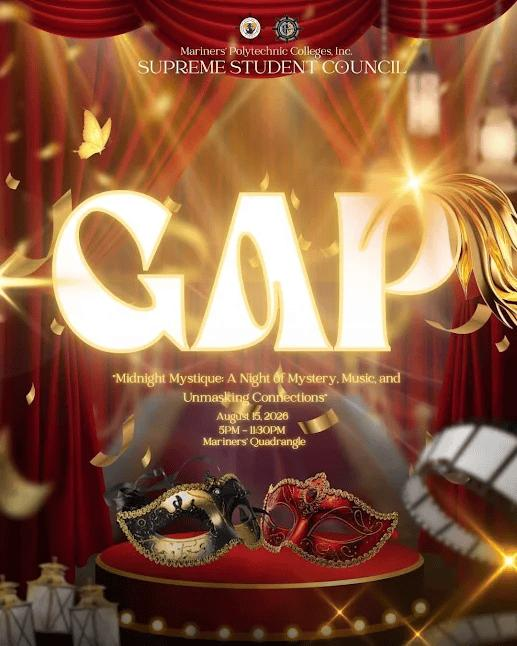embellishment: (99, 461, 418, 576), (359, 134, 517, 335), (401, 415, 516, 566), (0, 552, 129, 646), (422, 300, 517, 362), (408, 602, 516, 646), (87, 412, 158, 476), (75, 106, 116, 162), (298, 407, 343, 439), (0, 167, 25, 198), (161, 192, 184, 216), (22, 380, 39, 408), (288, 186, 304, 214), (257, 170, 275, 192)
logo: (233, 11, 267, 43), (271, 13, 304, 44)
text: (50, 180, 477, 360), (107, 367, 408, 405), (135, 44, 414, 78), (200, 410, 311, 450)
